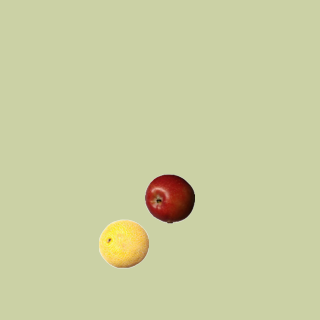Apple Braeburn: (144, 173, 194, 223)
Cantaloupe 1: (98, 218, 148, 268)
